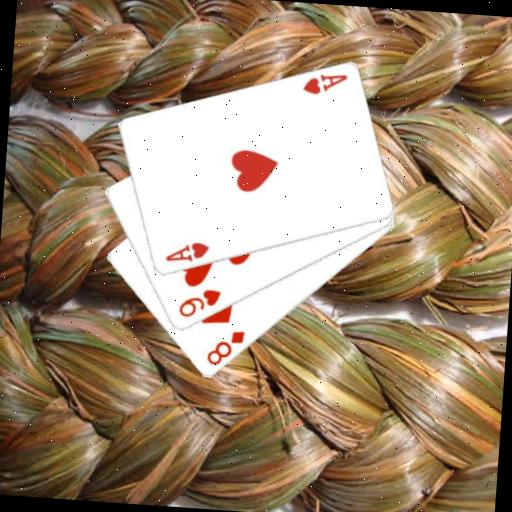8D: (203, 325, 247, 370)
9H: (175, 284, 223, 322)
AH: (162, 237, 212, 267), (299, 69, 349, 99)
